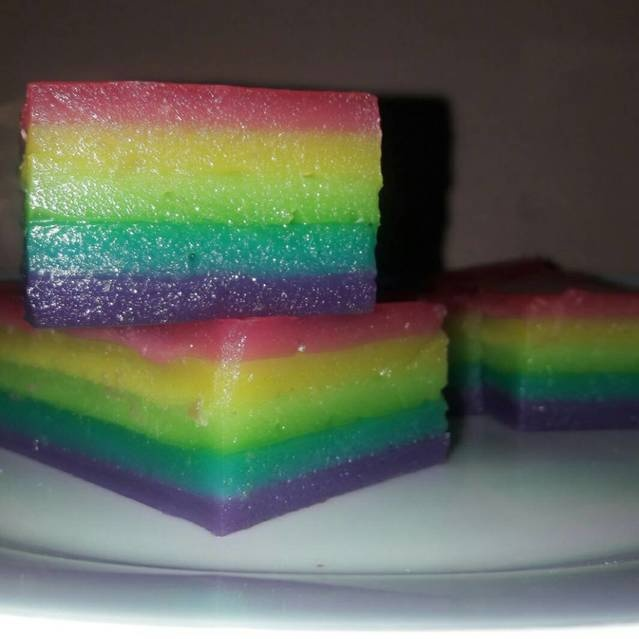kue_lapis_pelangi: (0, 304, 449, 541), (25, 81, 377, 316)
